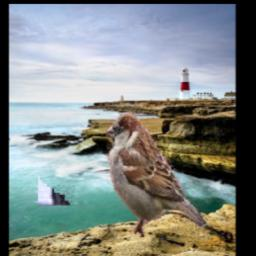Crow: (38, 42, 91, 207)
Sparrow: (105, 113, 206, 238)
